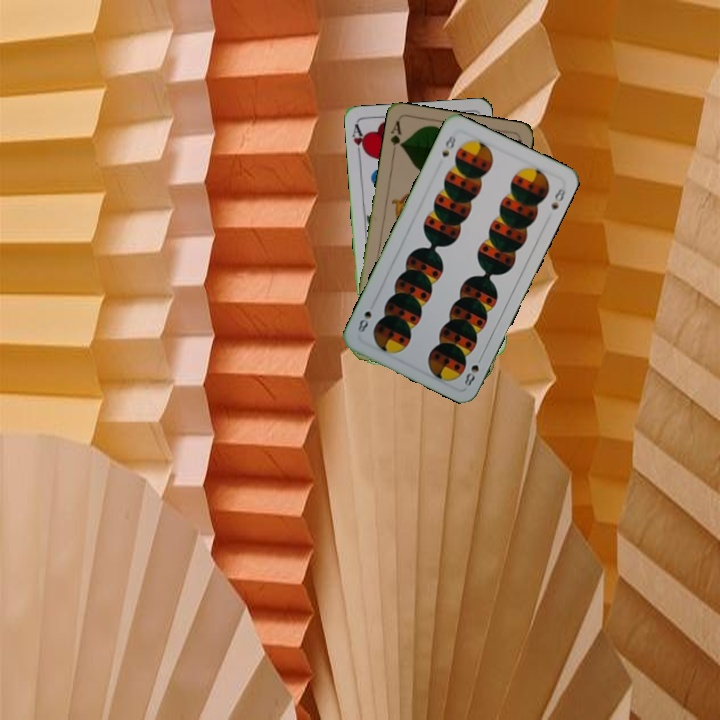GA: (386, 117, 405, 158)
HA: (348, 121, 369, 161)
S8: (460, 351, 486, 389), (437, 131, 459, 160)
